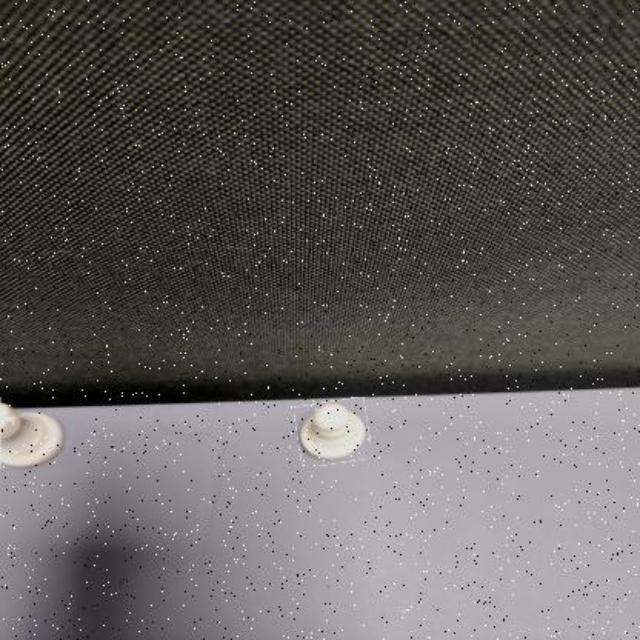white-pawn: (296, 400, 371, 466)
white-rook: (0, 397, 66, 470)
